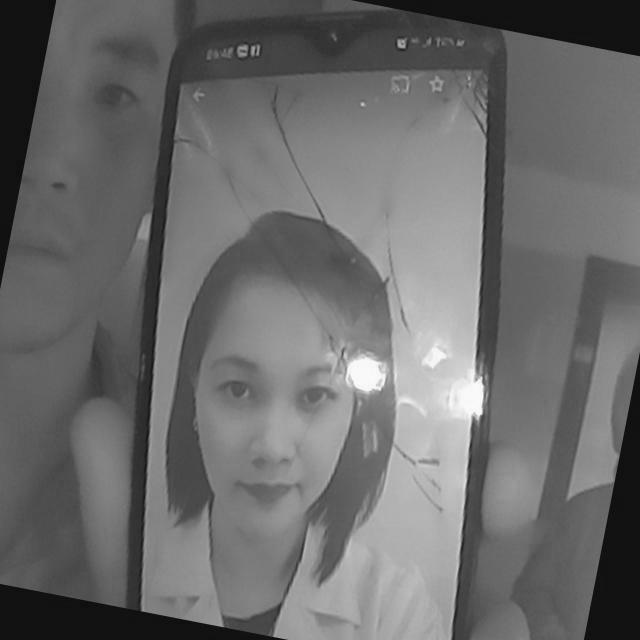fake: (64, 0, 592, 640)
